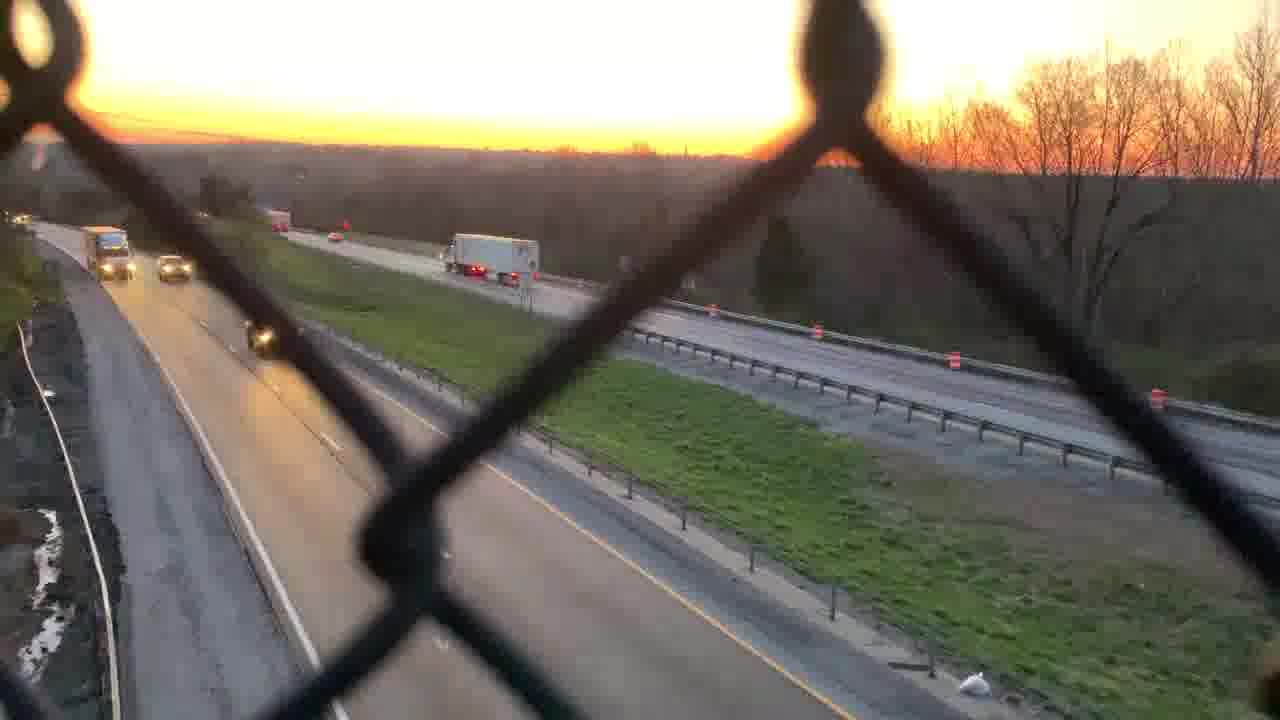heavyTruck: (443, 232, 548, 292), (77, 223, 139, 283)
